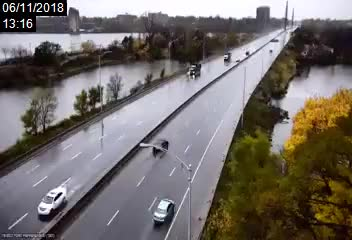personal_car: (36, 188, 68, 217), (153, 196, 176, 229), (153, 137, 169, 157)
truck: (188, 62, 201, 78), (222, 52, 232, 61)
